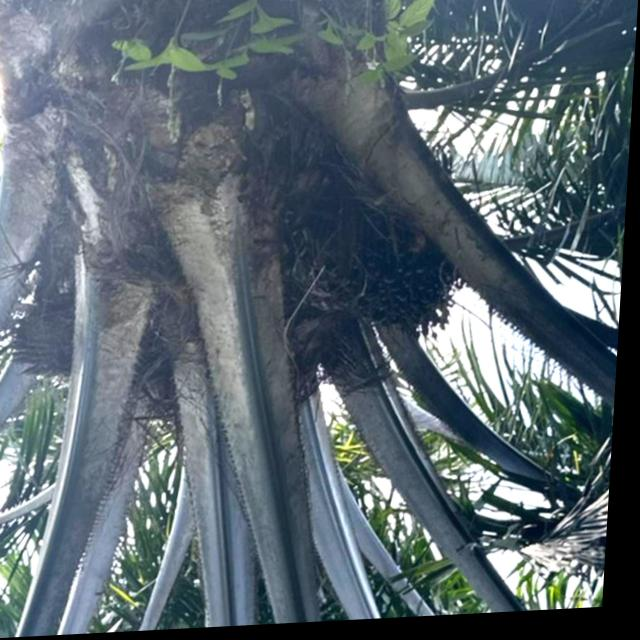unripe: (313, 205, 469, 345)
